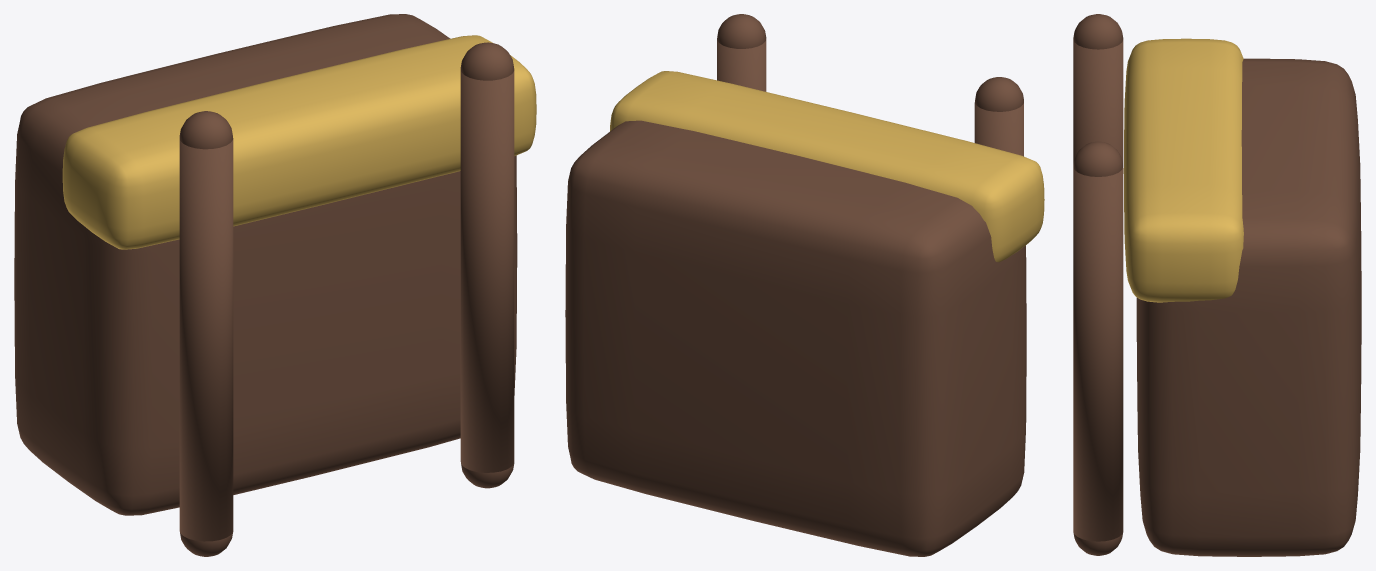
The model's file is bag_specimen.glb.
3 views of the same model, side by side, from view 1: azimuth 30°, elevation 25°; view 2: azimuth 150°, elevation 25°; view 3: azimuth 270°, elevation 25° (orthographic). The views are drawn at different scales.
Parts seen in each view (by area): view 1: box, flap, strap.001, strap, strap_a.001, strap_a, strap_b.001, strap_b; view 2: box, flap, strap, strap.001, strap_a.001, strap_a; view 3: box, flap, strap.001, strap, strap_a, strap_a.001, strap_b.001.
Boxes of the visible parts, x1,y1,x2,y2 form: box: (14,14,517,515); flap: (62,35,536,249); strap.001: (460,70,514,472); strap: (179,139,233,541); strap_a.001: (460,42,514,80); strap_a: (179,111,233,149); strap_b.001: (461,463,514,488); strap_b: (180,532,232,556); box: (565,120,1026,556); flap: (610,71,1044,262); strap: (974,103,1023,156); strap.001: (717,39,766,91); strap_a.001: (717,14,766,48); strap_a: (975,77,1023,111); box: (1136,58,1361,556); flap: (1123,38,1243,302); strap.001: (1073,167,1123,541); strap: (1073,40,1123,164); strap_a: (1073,14,1123,49); strap_a.001: (1073,141,1123,176); strap_b.001: (1073,532,1123,555).
Bounding box in the file's own units: 0.3695 × 0.36 × 0.2296.
